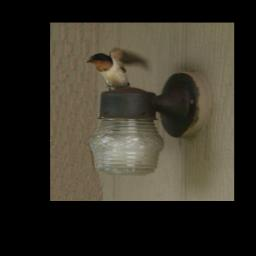Swallow: (86, 46, 151, 91)
